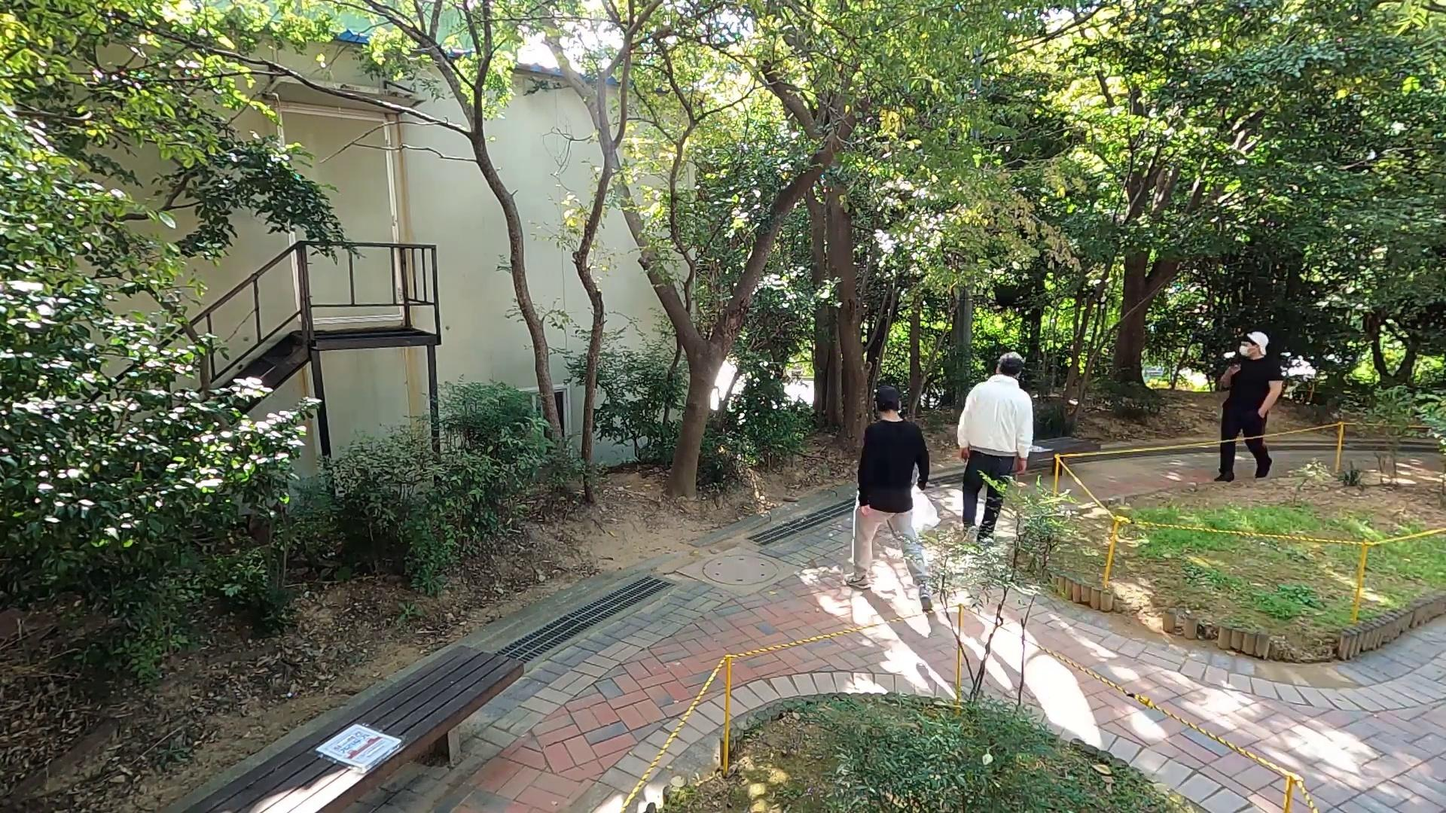person: (845, 372, 946, 616), (949, 347, 1042, 550), (1215, 328, 1279, 488)
trash: (905, 480, 943, 534)
